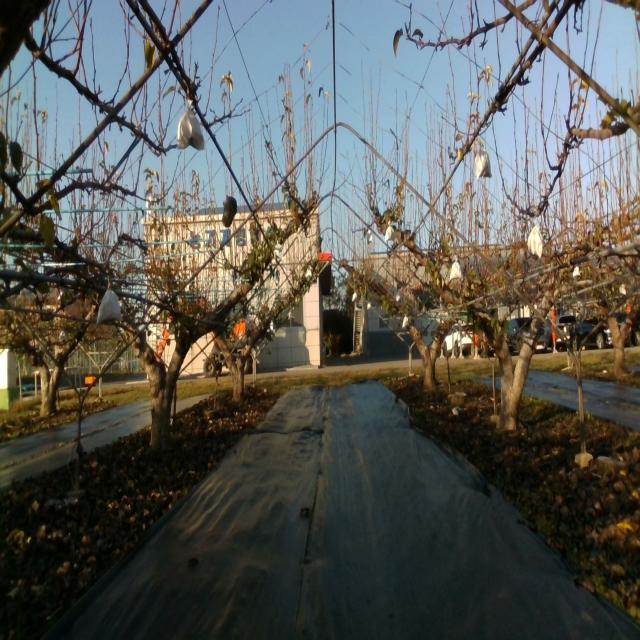pearbags: (177, 100, 204, 150), (96, 282, 123, 329), (474, 139, 492, 180), (527, 228, 543, 262), (448, 255, 464, 282)
